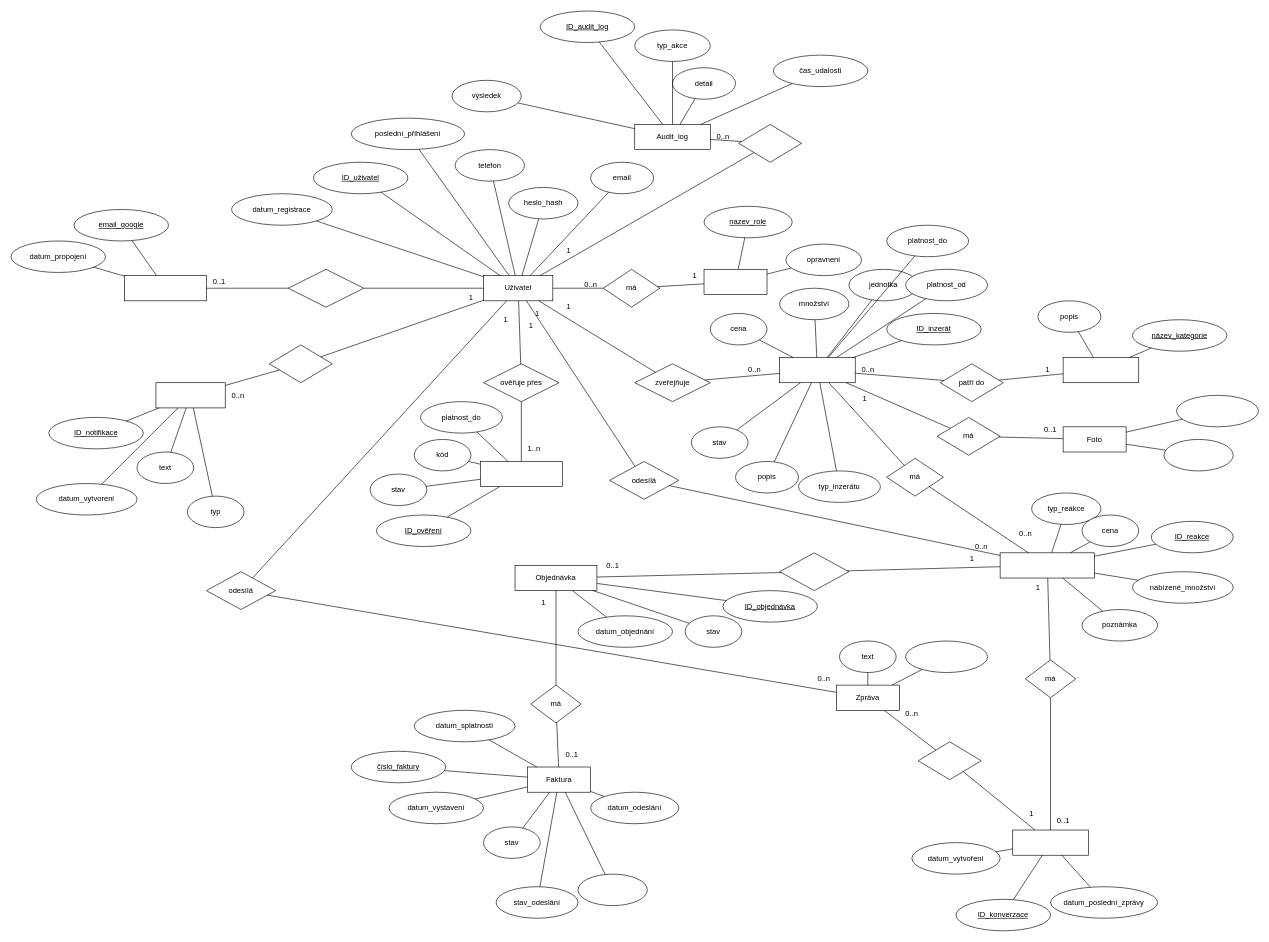
The diagram is 1269 pixels wide and 942 high, and some of its shapes have lost their labels. Here are the shapes that lost their labels. From the top down, the centre of each, then its label:
[770,143]: provádí
[165,288]: Google_účet
[326,288]: má propojený
[735,282]: Role
[300,363]: dostává
[817,370]: Inzerát
[1100,370]: Kategorie
[190,395]: Notifikace
[1217,411]: ID_foto
[521,474]: SMS_ověření
[1198,455]: url
[814,571]: vzniká_z
[1047,565]: Reakce
[946,656]: ID_zpráva
[949,760]: obsahuje
[1050,842]: Konverzace
[612,889]: pdf_url
